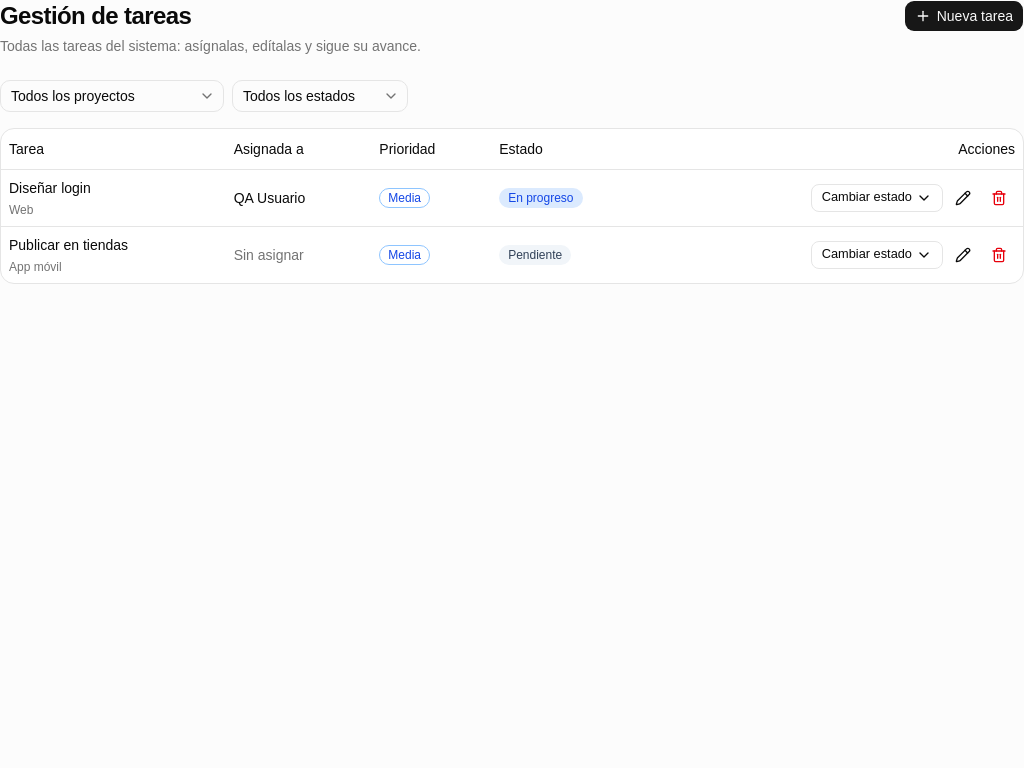
Scenario: GestionTareasPage › si el backend rechaza la creación, muestra su mensaje dentro del modal
The image size is (1024, 768).
Expected: the text "Diseñar login" is shown, [9,180,91,196]
Step 1. Click the button "Nueva tarea" → (964, 16), box [904,0,1023,32]
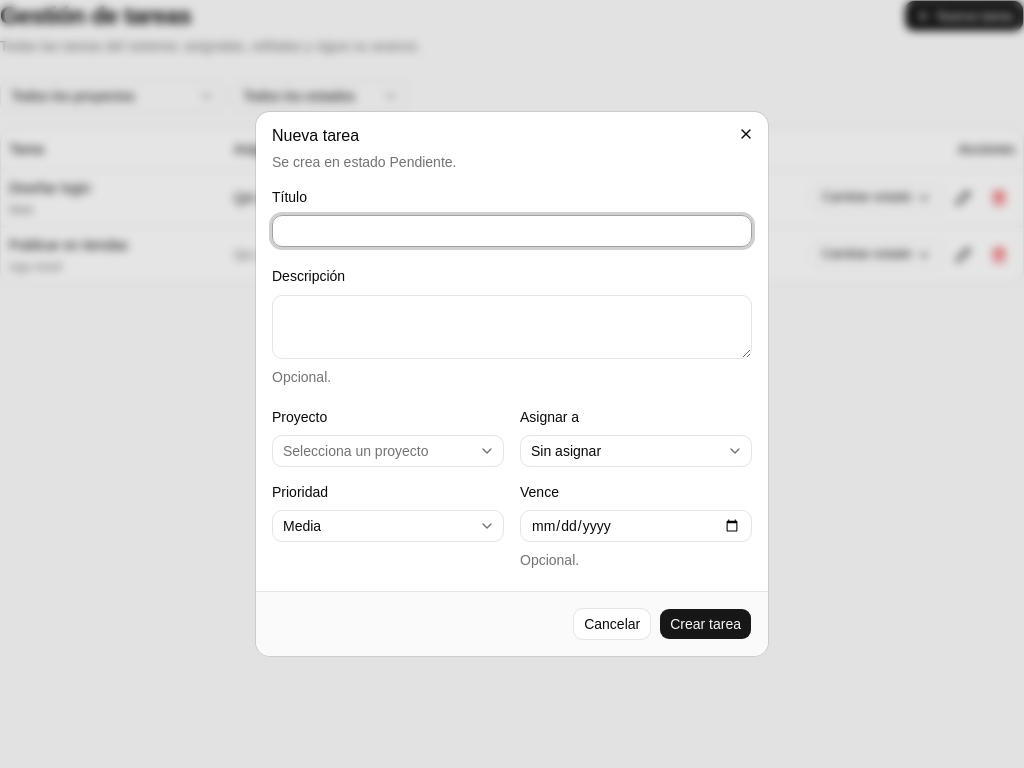
Step 2. Type "X" into the field labelled "Título" → (512, 231), box [272,215,752,247]
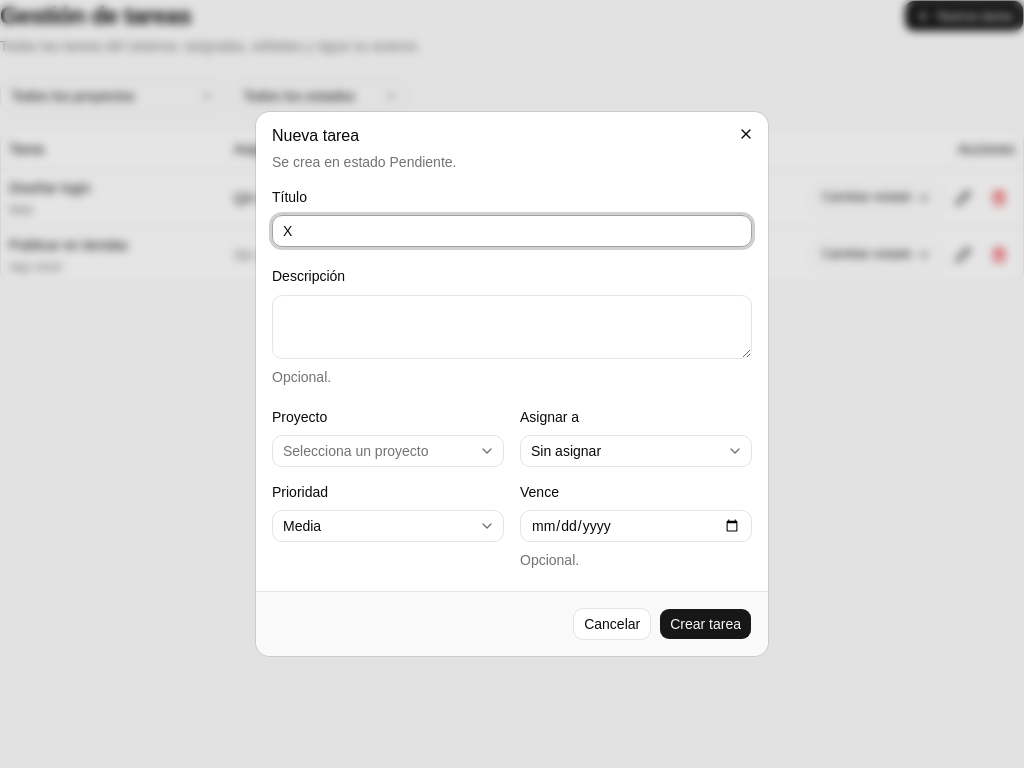
Step 3. Click the dropdown labelled "proyecto" → (388, 451), box [272,435,504,467]
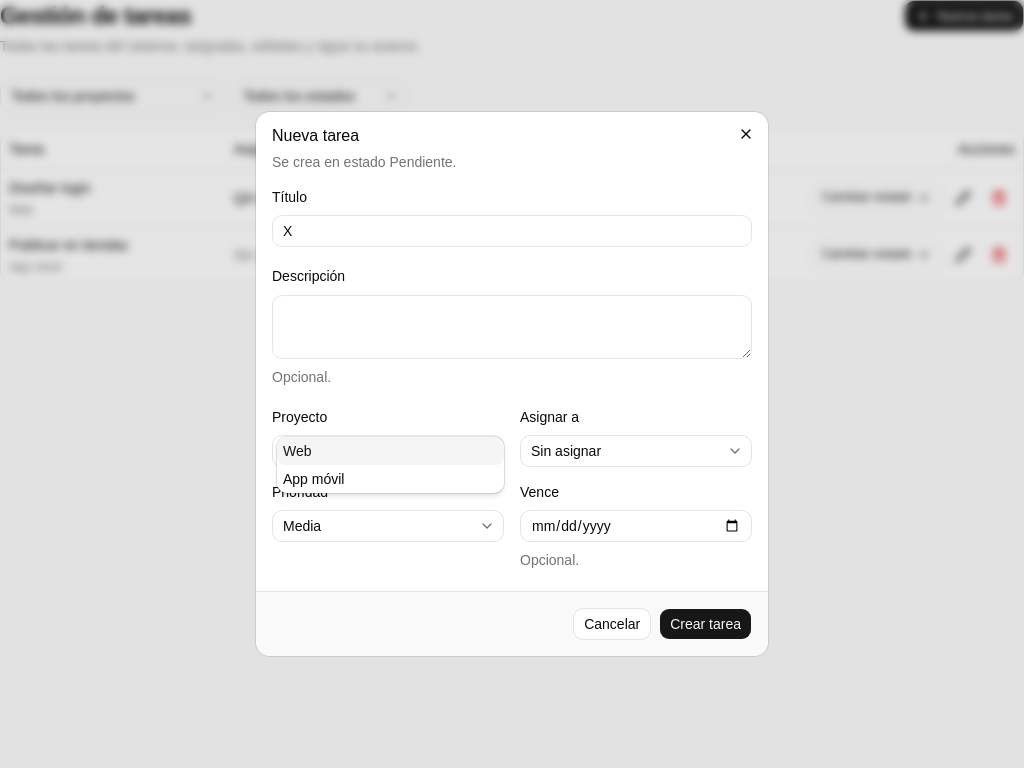
Step 4. Click the option "Web" → (390, 451), box [277,437,504,465]
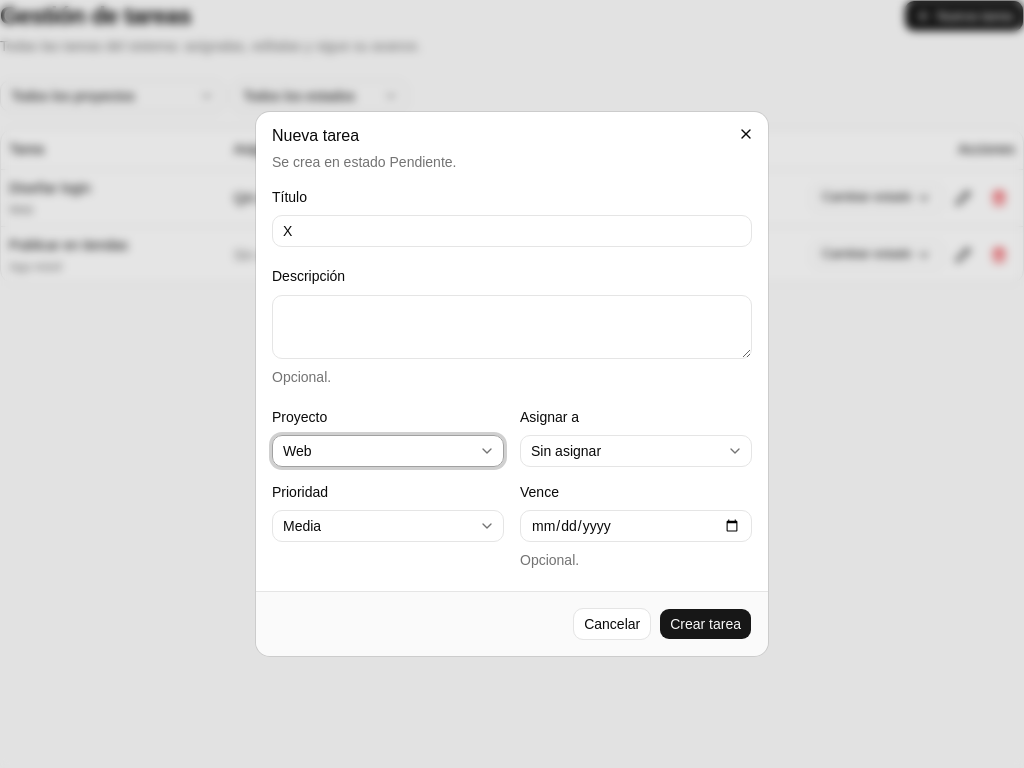
Step 5. Click the button "Crear tarea" → (706, 624), box [659,608,752,640]
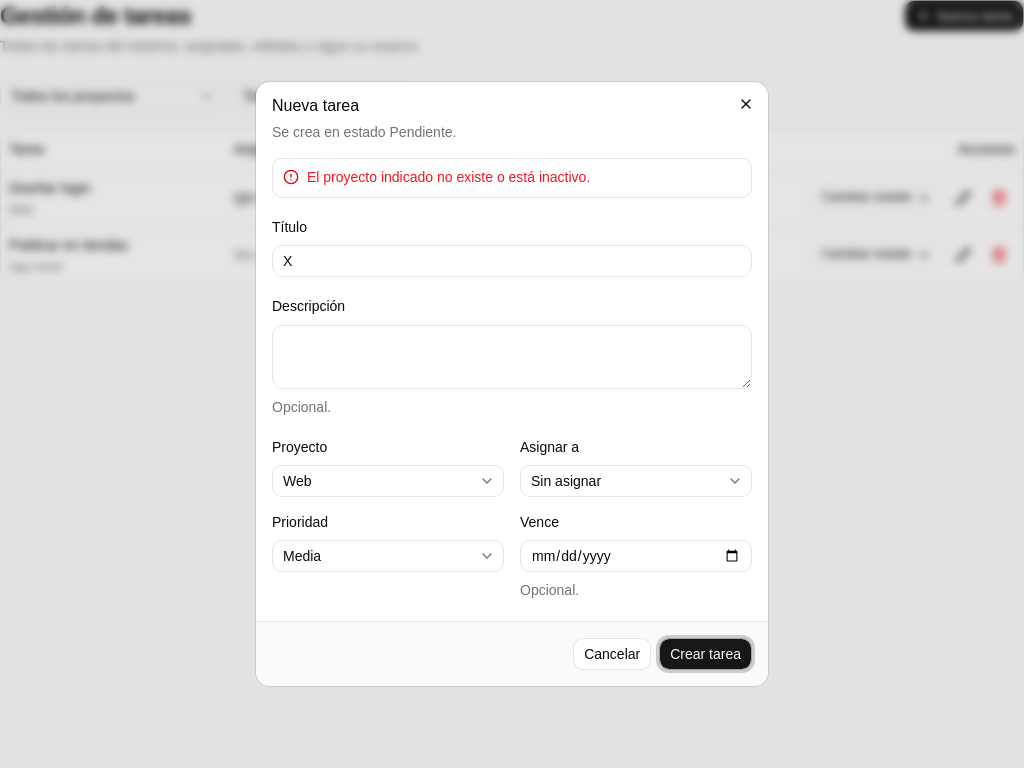
Result: the text "El proyecto indicado no existe o está inactivo." is shown at [307,169,590,185]
